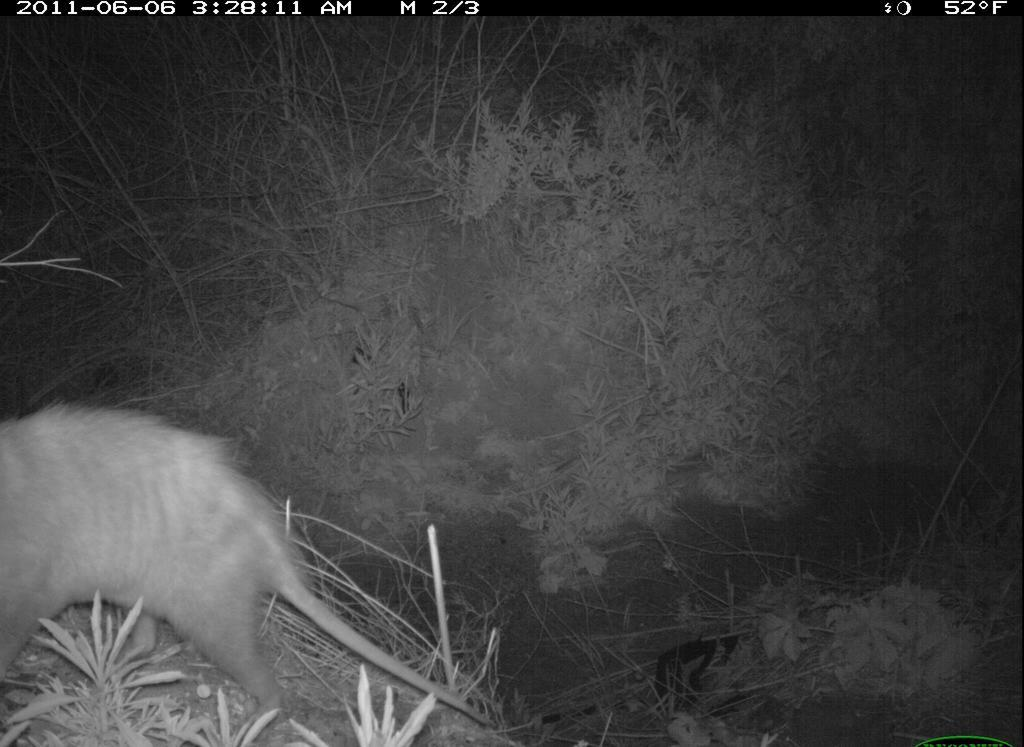opossum: (3, 326, 548, 744)
